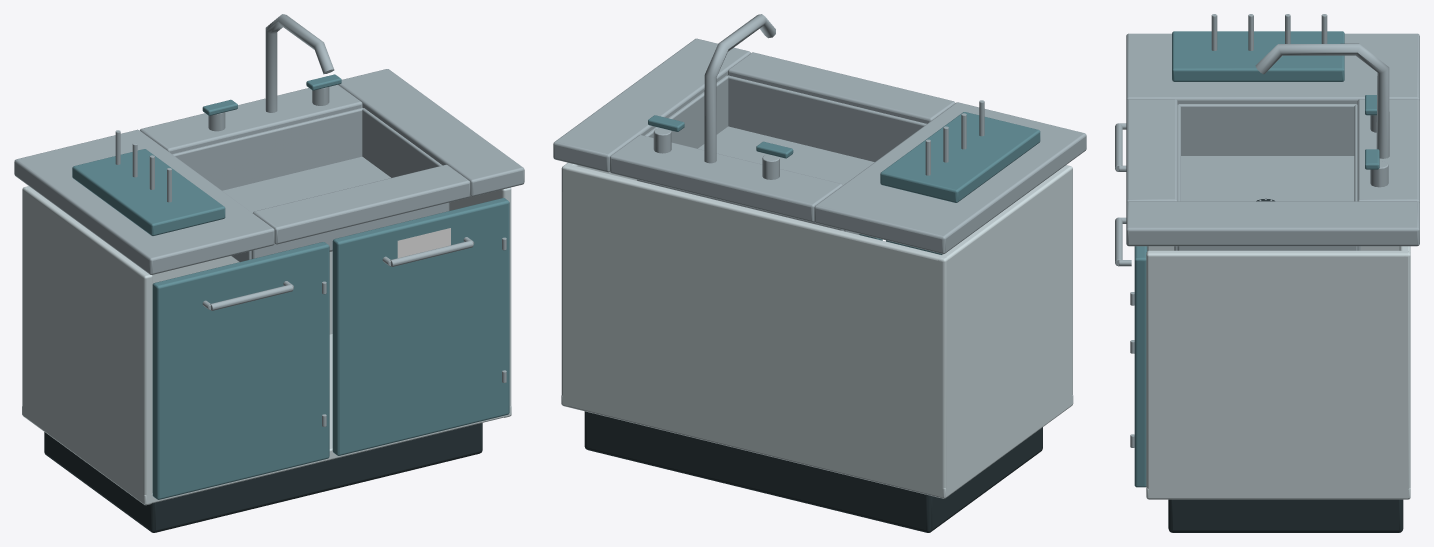
Rendered from CP_WashBench.fbx.
3 renders of one model, left to right at view 1: azimuth 30°, elevation 25°; view 2: azimuth 150°, elevation 25°; view 3: azimuth 270°, elevation 25°, orthographic. The views are drawn at different scales.
Visible parts, largest first — view 1: CP_WashBench; view 2: CP_WashBench; view 3: CP_WashBench.
Boxes of the visible parts, x1,y1,x2,y2 form: CP_WashBench: (14, 14, 524, 532); CP_WashBench: (553, 14, 1086, 532); CP_WashBench: (1115, 14, 1419, 532).
Bounding box in the file's own units: 126 × 130 × 83.05.
